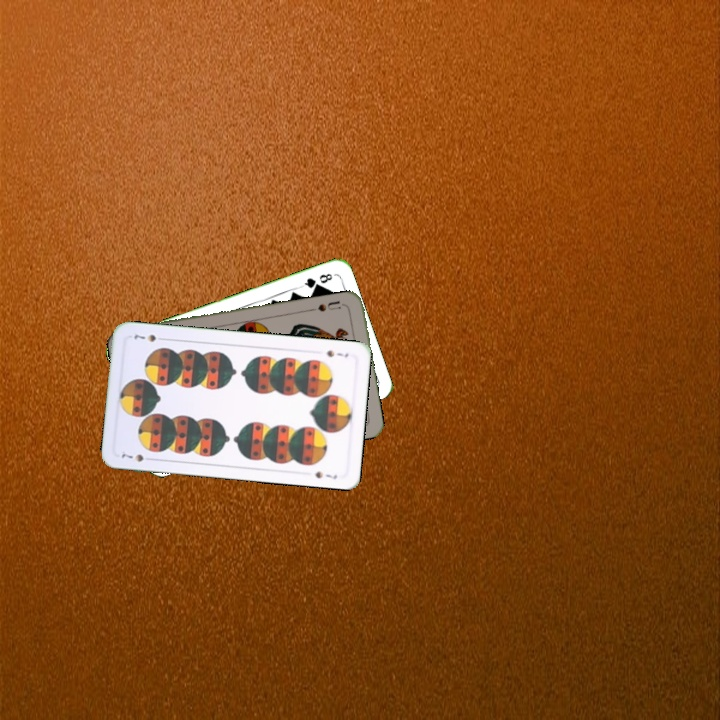G8: (297, 269, 335, 291)
S7: (117, 449, 156, 464), (323, 346, 351, 360)
SU: (308, 297, 349, 314)
